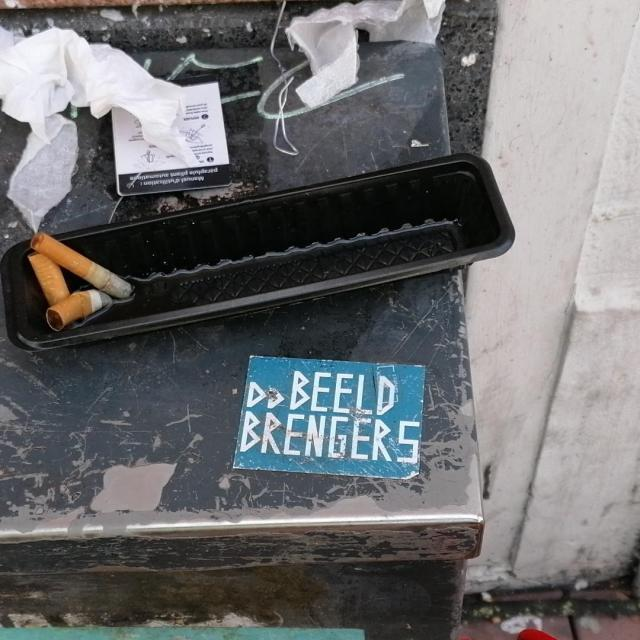Plastic: (0, 150, 517, 357)
